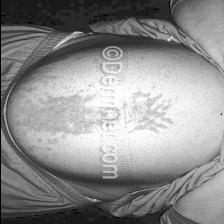Toxin: (17, 90, 100, 136), (124, 91, 180, 135)
